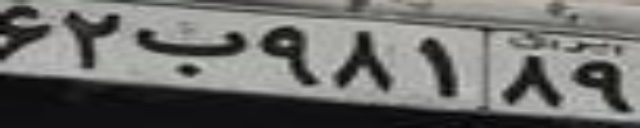1: (412, 34, 462, 96)
2: (62, 8, 124, 71)
6: (1, 2, 50, 63)
8: (328, 30, 398, 93), (496, 55, 562, 108)
9: (262, 24, 319, 87), (569, 58, 634, 112)
be: (132, 27, 246, 79)
